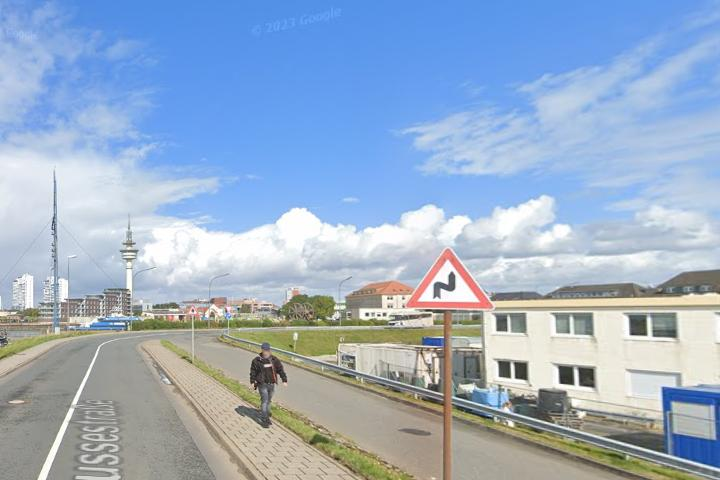traffic_sign: (403, 247, 494, 309)
